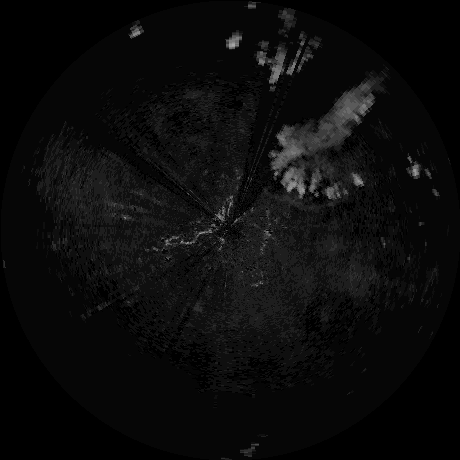frontgust: (265, 189, 332, 212)
